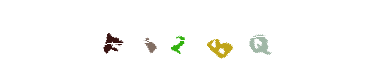2: (147, 0, 227, 80)
B: (180, 0, 260, 80)
F: (71, 0, 151, 80)
I: (122, 0, 202, 80)
Q: (190, 0, 270, 80)
